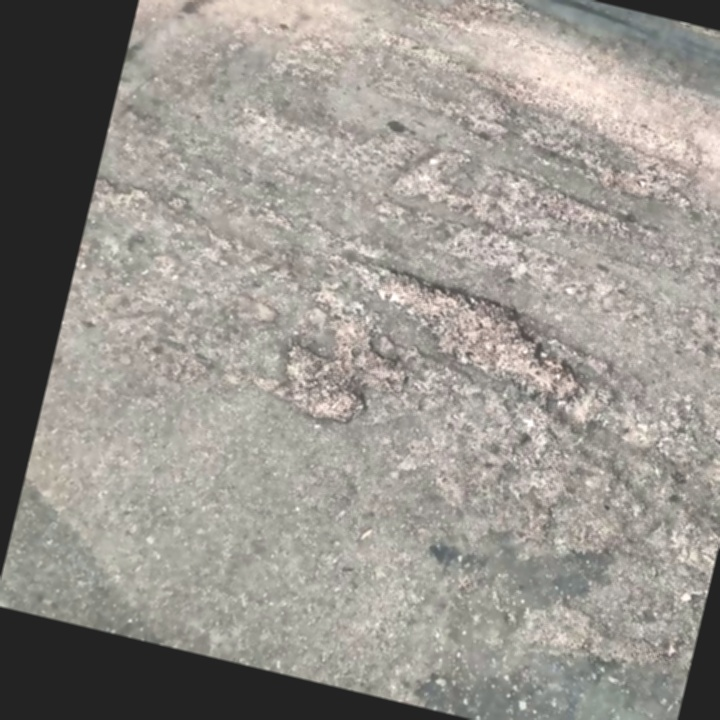pothole: (343, 258, 605, 408), (270, 338, 381, 431)
